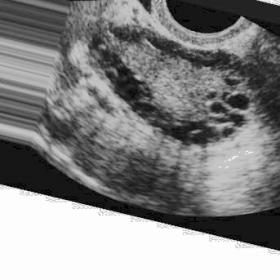PCOS: (134, 99, 157, 116), (228, 95, 250, 111), (221, 77, 244, 90), (194, 129, 210, 147), (228, 113, 246, 127), (186, 118, 204, 132), (220, 126, 235, 142), (208, 103, 225, 115)
